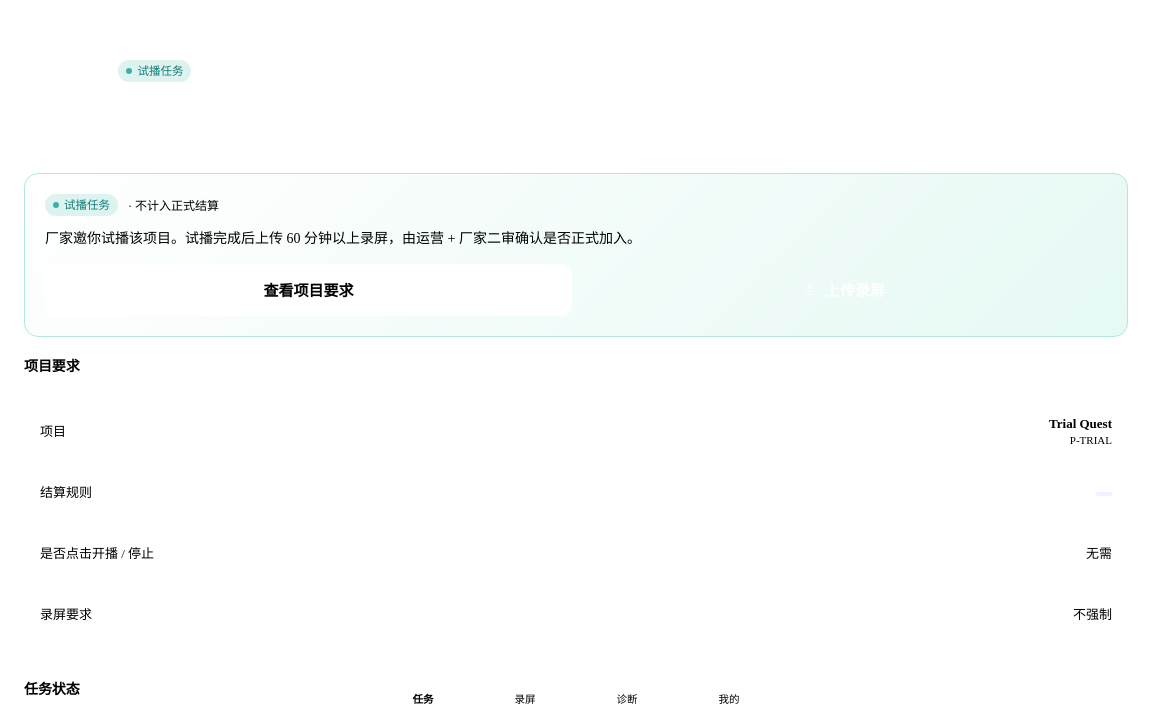
it: StreamerMobileReferenceApp recording smoke › routes the trial task CTA buttons to the recordings tab
The width and height of the screenshot is (1152, 719).
Click the button "上传录屏" at (844, 290), box [580,264,1107,316]
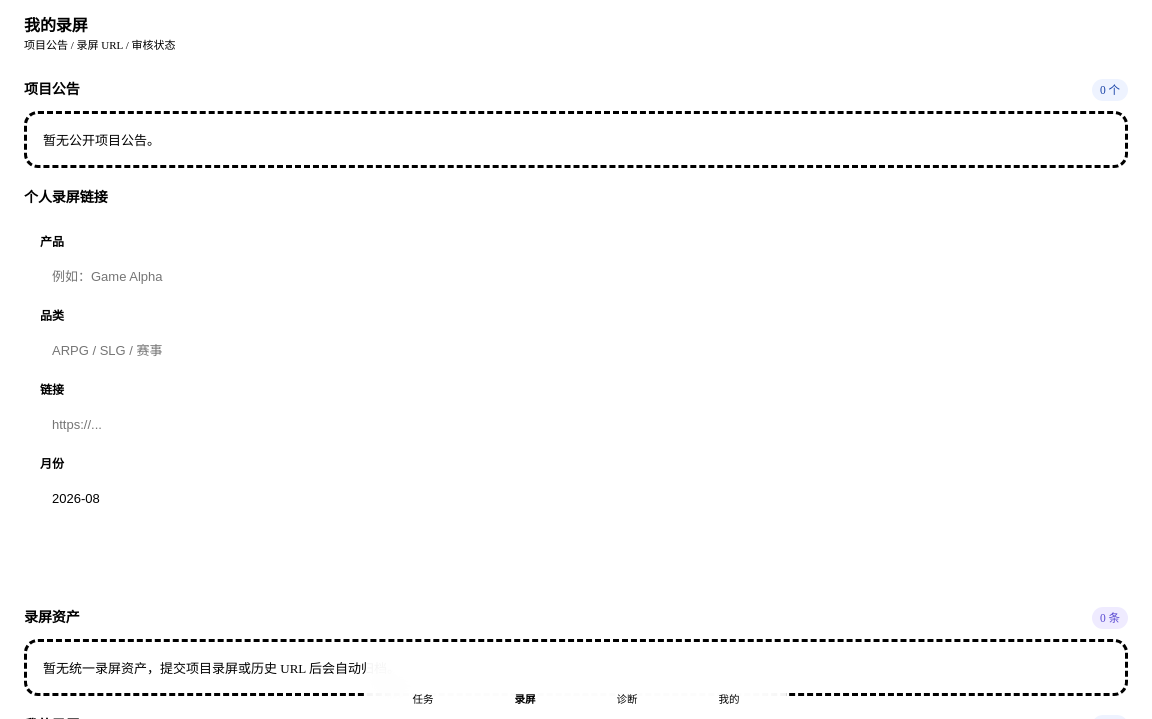
expect the text "录屏资产" is shown: met, box [24,606,80,626]
